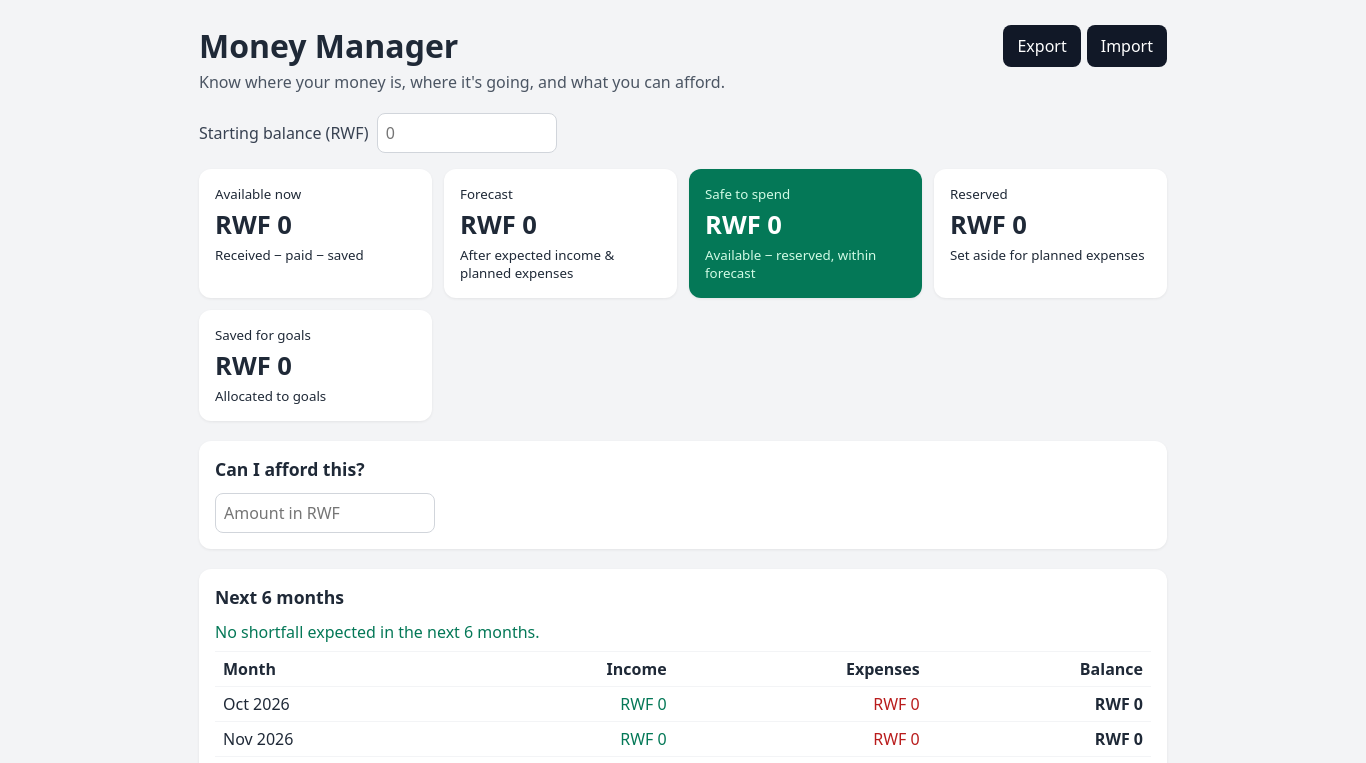
Test: App › answers the affordability check
This screenshot has width=1366, height=763.
Type "100000" into the number field labelled "Starting balance".
click(467, 133); type("100000")  # box [377,113,557,153]
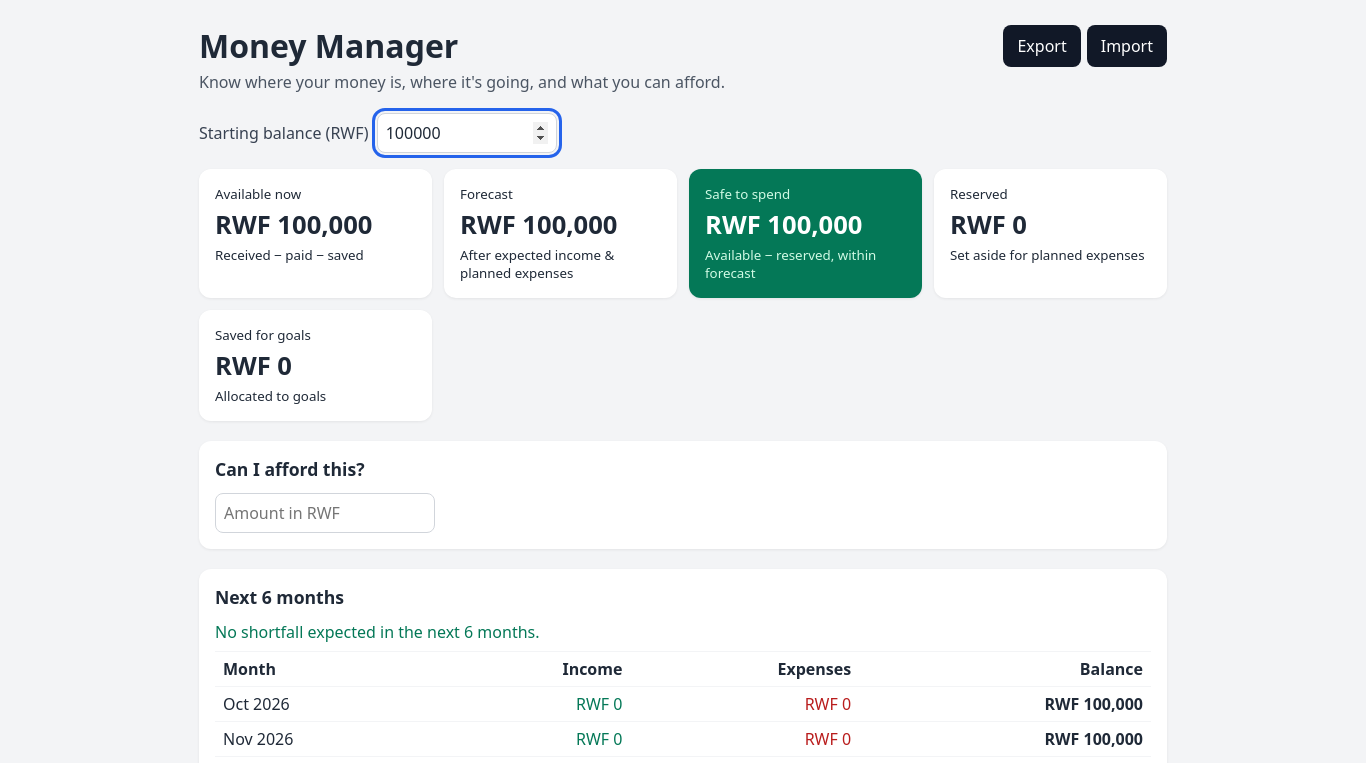
Type "40000" into the number field named "Amount to check".
click(325, 513); type("40000")  # box [215,493,435,533]
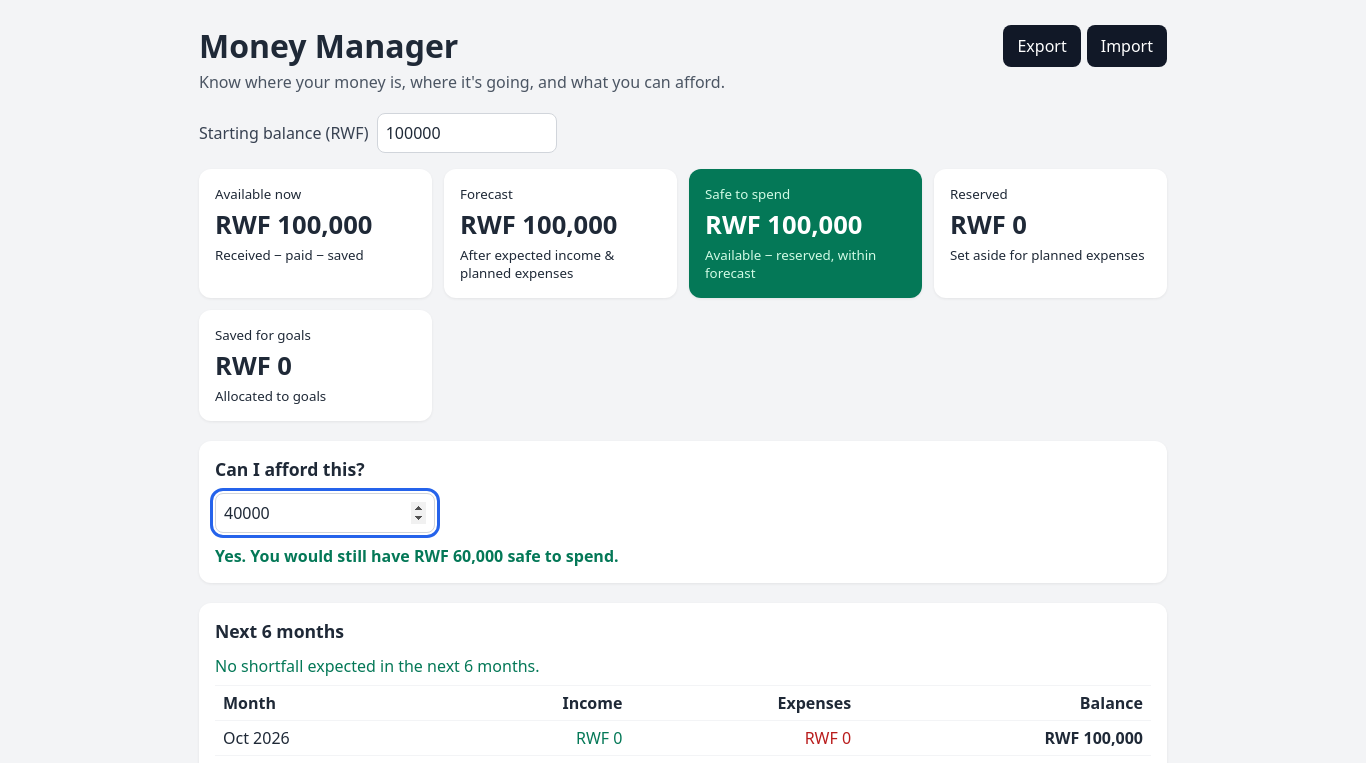
Expected: the text with test id "afford-result" shows "Yes", [215,545,619,567]
Replace the text in the number field named "Amount to check" with "500000" at (325, 513), box [215,493,435,533]
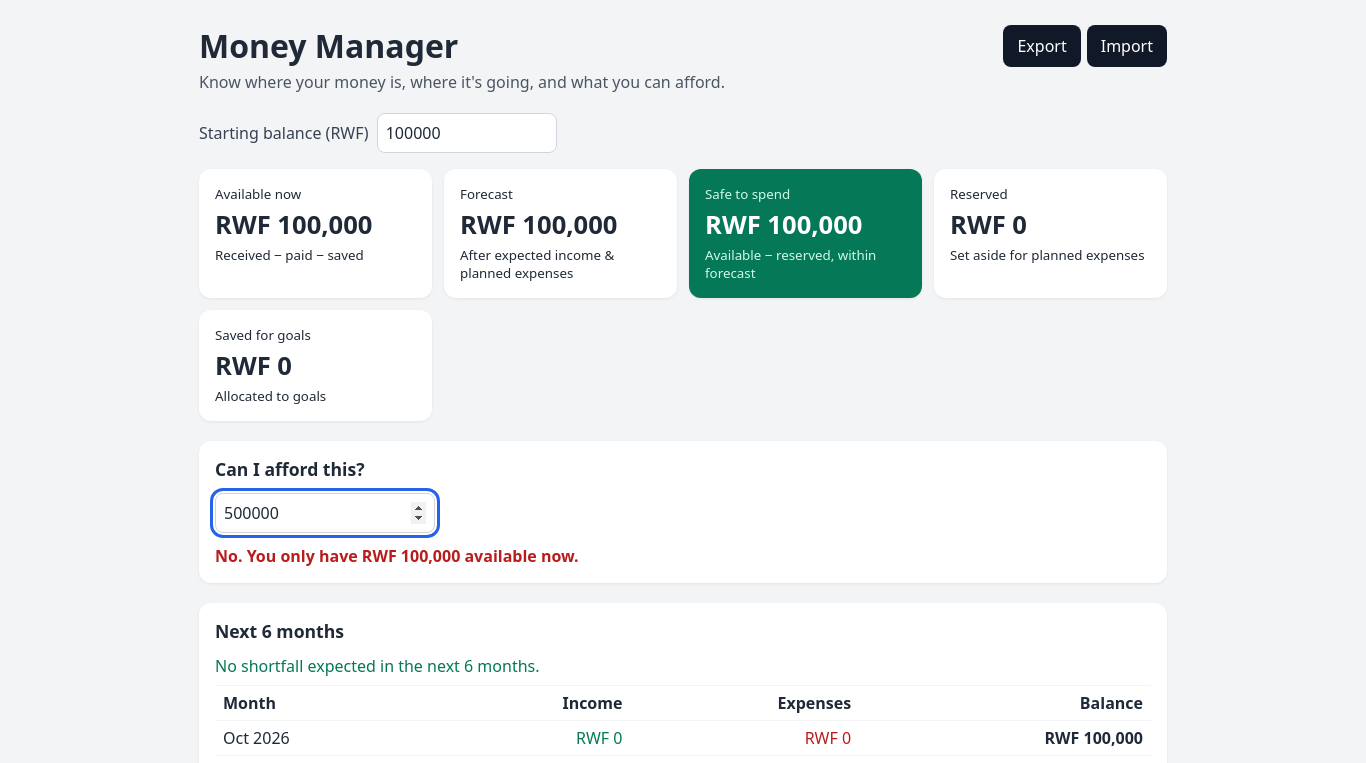
Expected: the text with test id "afford-result" shows "No", [215,545,579,567]
